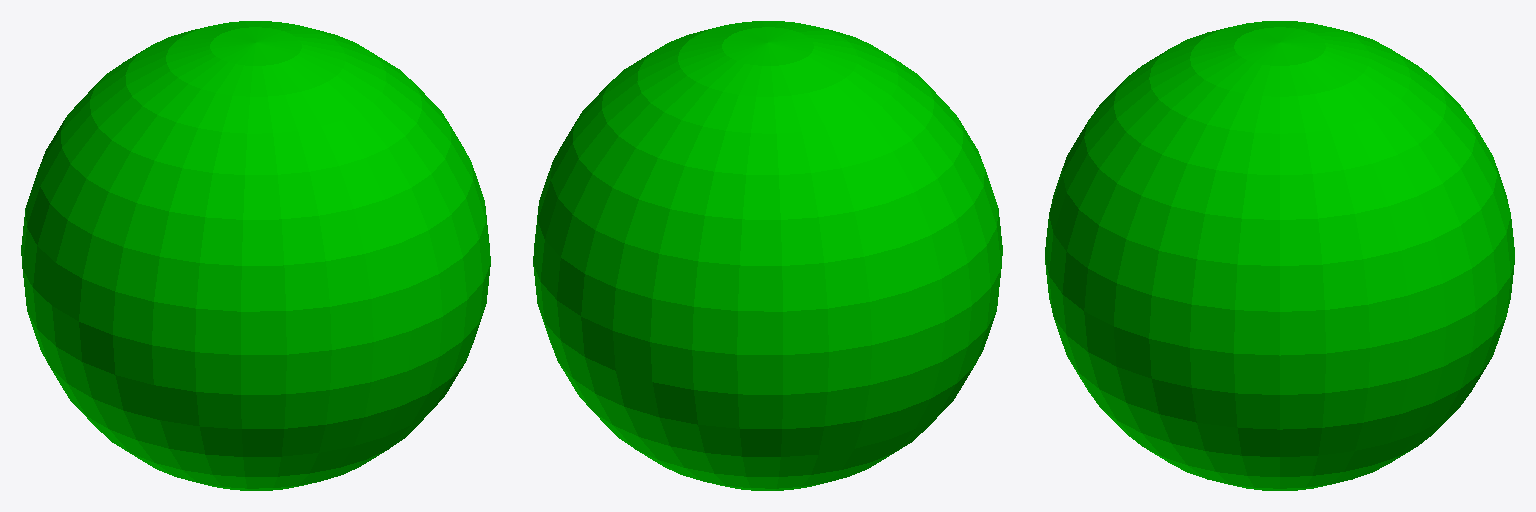
The model's file is ball.obj.
3 renders of one model, left to right at view 1: azimuth 30°, elevation 25°; view 2: azimuth 150°, elevation 25°; view 3: azimuth 270°, elevation 25°, orthographic.
Visible parts, largest first — view 1: Sphere; view 2: Sphere; view 3: Sphere.
Part boxes in pixels (x1,y1,x2,y2): Sphere: (21, 21, 490, 490); Sphere: (533, 21, 1002, 490); Sphere: (1045, 21, 1514, 490).
Size of the model in its own units: 2 by 2 by 2.